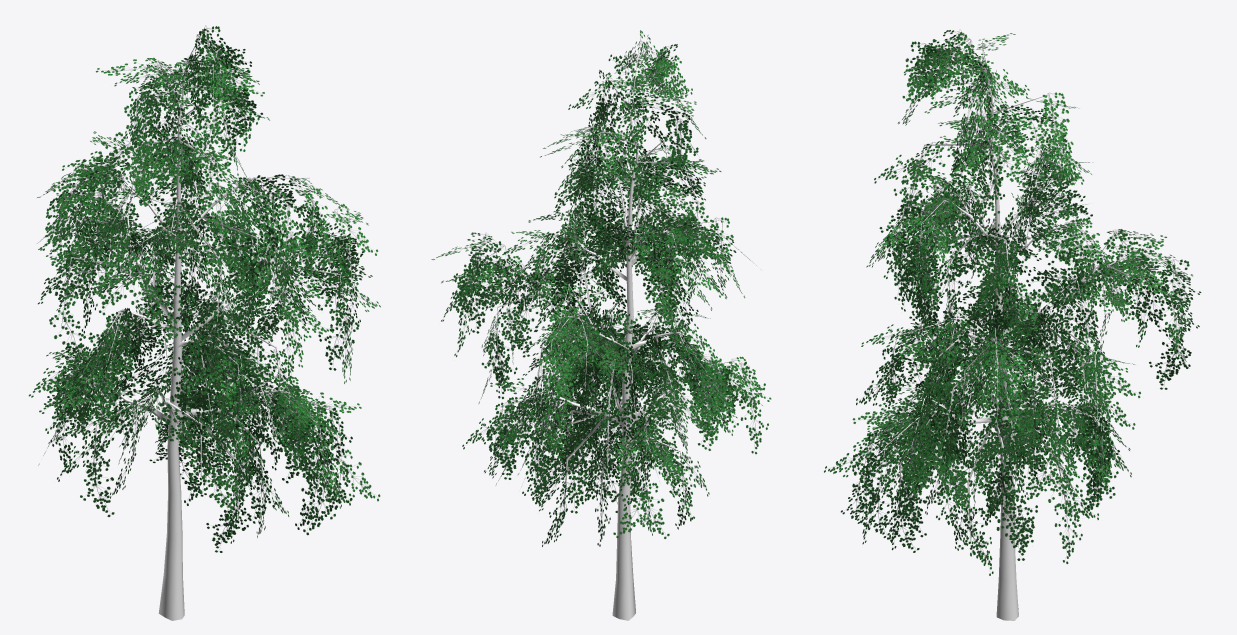
The model's file is bouleau_feuilles1.glb.
The picture shows the model from 3 angles, left to right: view 1: azimuth 30°, elevation 25°; view 2: azimuth 150°, elevation 25°; view 3: azimuth 270°, elevation 25°; orthographic projection. The views are drawn at different scales.
Visible parts, largest first — view 1: birch-1; view 2: birch-1; view 3: birch-1.
Boxes of the visible parts, x1,y1,x2,y2 form: birch-1: (28,25,380,620); birch-1: (431,30,771,620); birch-1: (824,28,1201,620).
Size of the model in its own units: 62.13 by 102 by 61.77.
2 materials, 1 textured.
